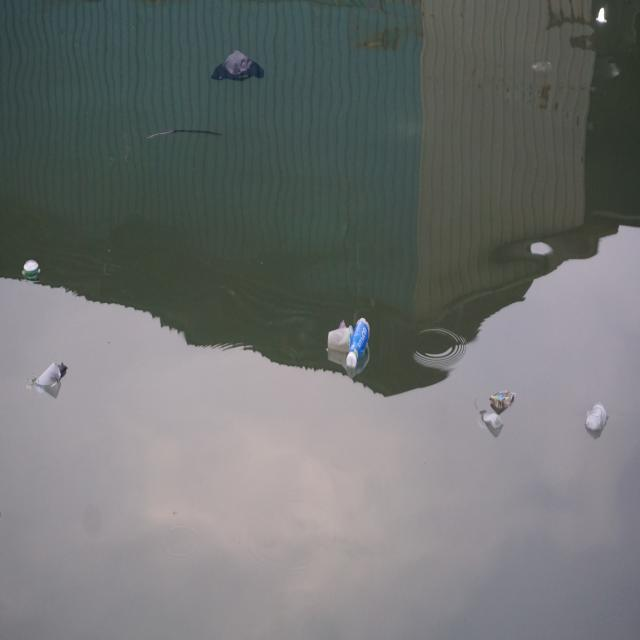Botol Plastik: (348, 315, 374, 373)
Bungkus Minuman: (34, 358, 65, 395), (329, 317, 355, 352), (586, 400, 610, 437)
Kantong Plastik: (209, 41, 273, 90), (480, 405, 508, 440)
